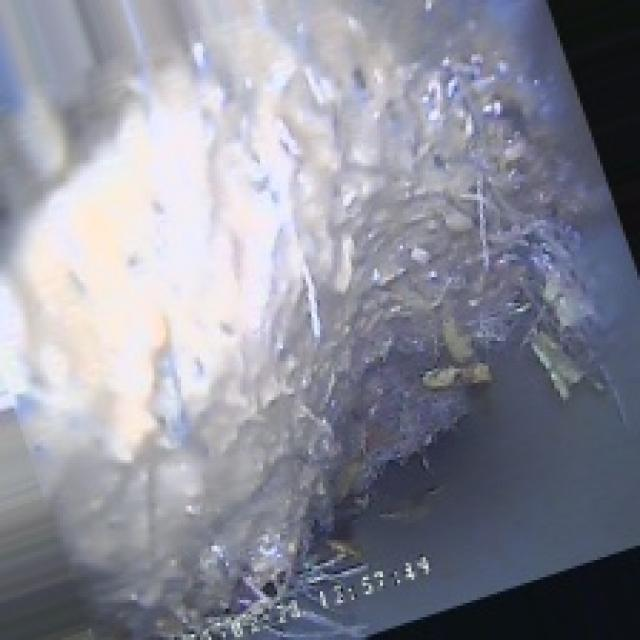sluge accumulation: (86, 92, 600, 534)
